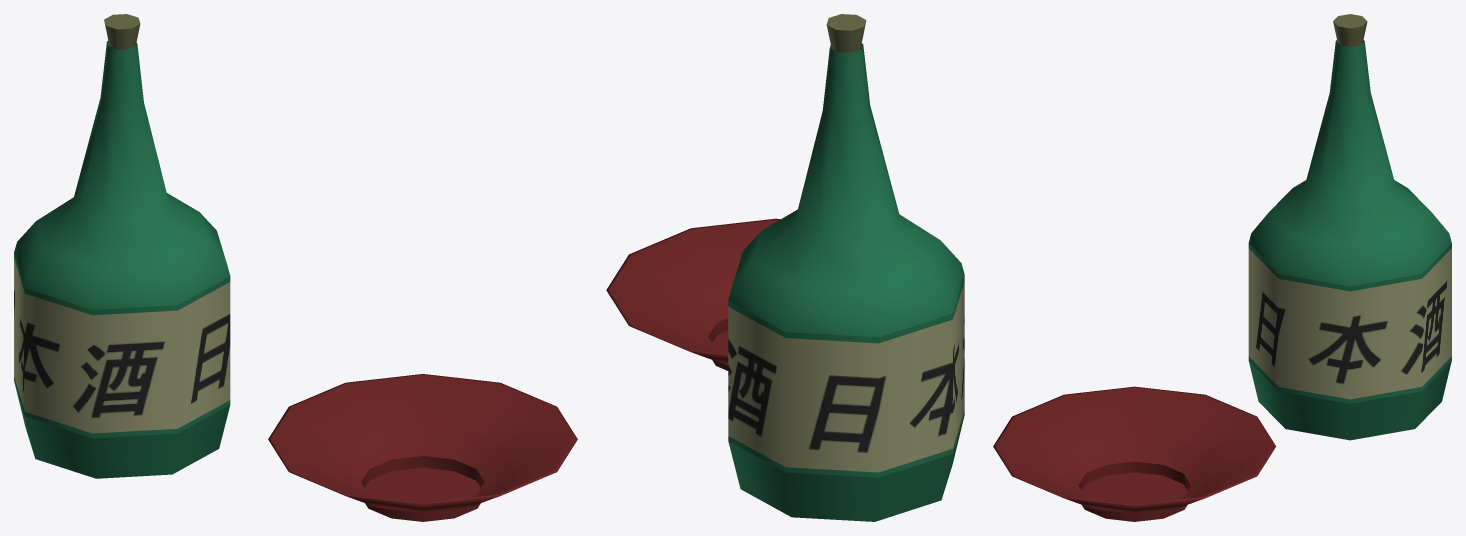
The model's file is Saque.fbx.
3 views of the same model, side by side, from view 1: azimuth 30°, elevation 25°; view 2: azimuth 150°, elevation 25°; view 3: azimuth 270°, elevation 25° (orthographic). The views are drawn at different scales.
Visible parts, largest first — view 1: GarrafaGrande; view 2: GarrafaGrande; view 3: GarrafaGrande.
Boxes of the visible parts, x1=… form: GarrafaGrande: x1=14, y1=14, x2=577, y2=521; GarrafaGrande: x1=606, y1=14, x2=964, y2=521; GarrafaGrande: x1=993, y1=14, x2=1451, y2=521.
Size of the model in its own units: 477 by 475 by 500.
